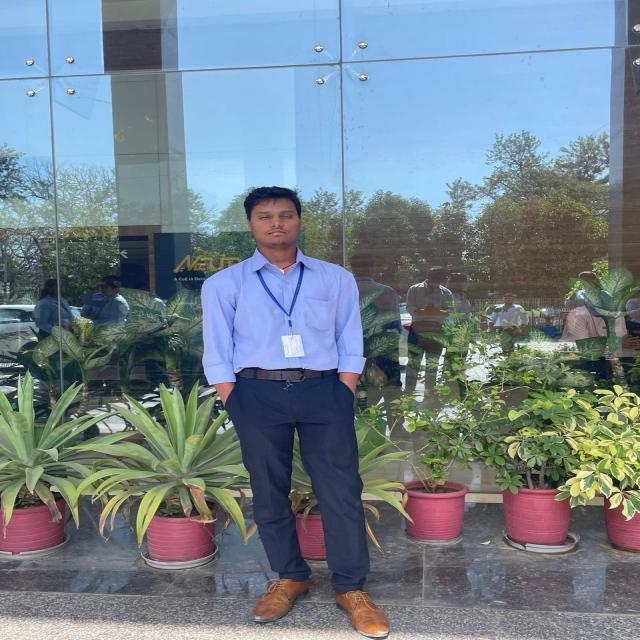uniform: (199, 246, 372, 592)
